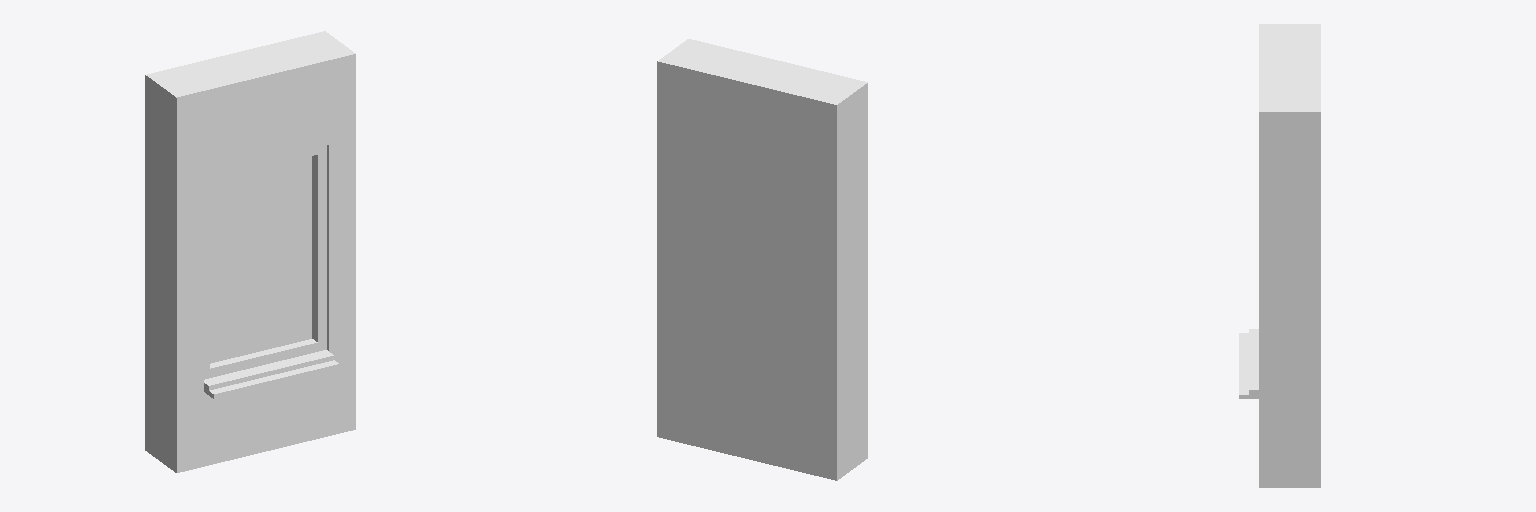
Rendered from Wall_Exterior.obj.
3 views of the same model, side by side, from view 1: azimuth 30°, elevation 25°; view 2: azimuth 150°, elevation 25°; view 3: azimuth 270°, elevation 25° (orthographic).
Parts seen in each view (by area): view 1: Wall_Exterior; view 2: Wall_Exterior; view 3: Wall_Exterior.
Part boxes in pixels (bbox=[...]): Wall_Exterior: bbox=[145, 31, 355, 472]; Wall_Exterior: bbox=[657, 39, 867, 480]; Wall_Exterior: bbox=[1239, 24, 1320, 487].
Size of the model in its own units: 40 by 80 by 16.